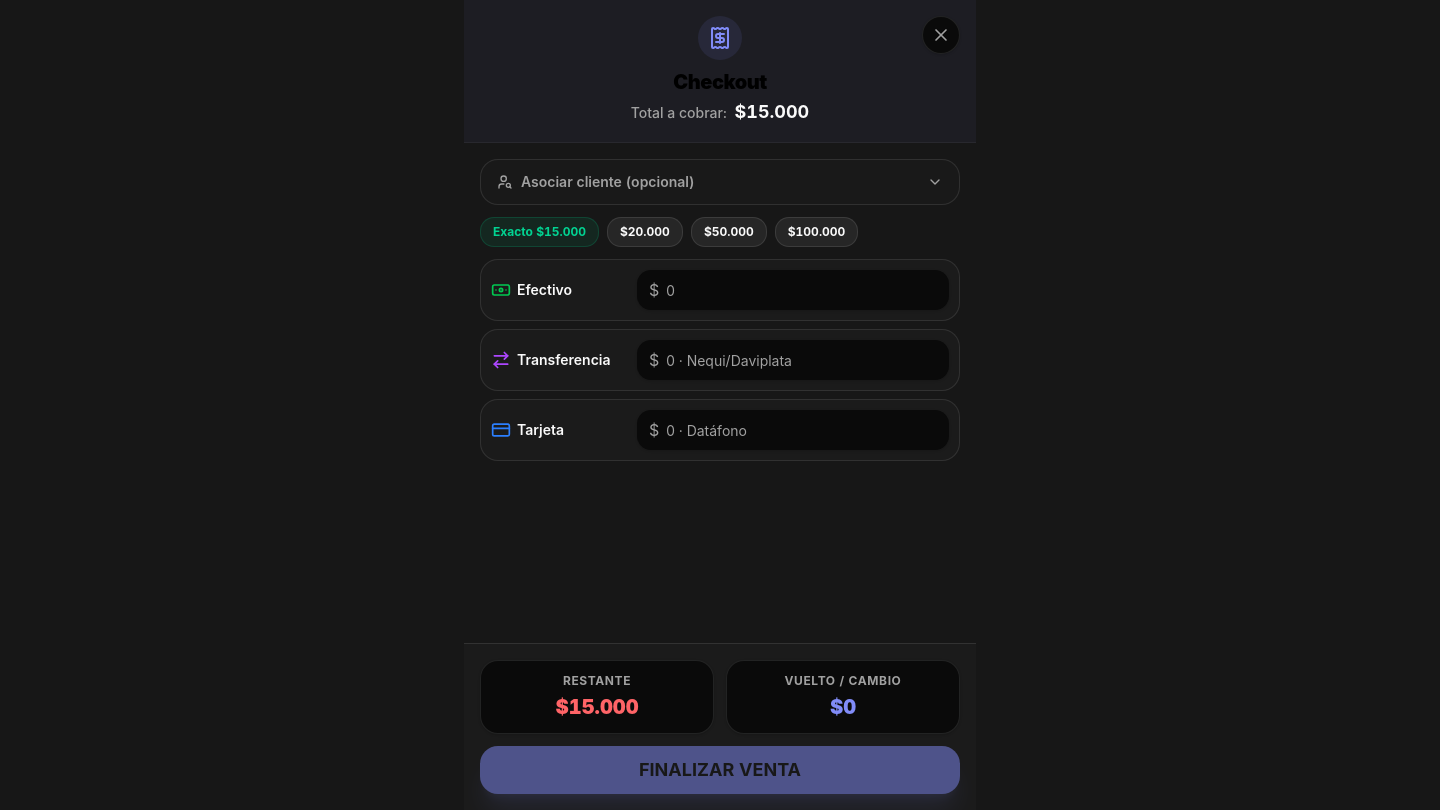
Test: CheckoutModal — payment stage › queues the sale for offline retry instead of showing a dead-end error when processSale throws
Type "15000" into the field with placeholder "0" at coordinates (793, 290), box [637,270,949,310]
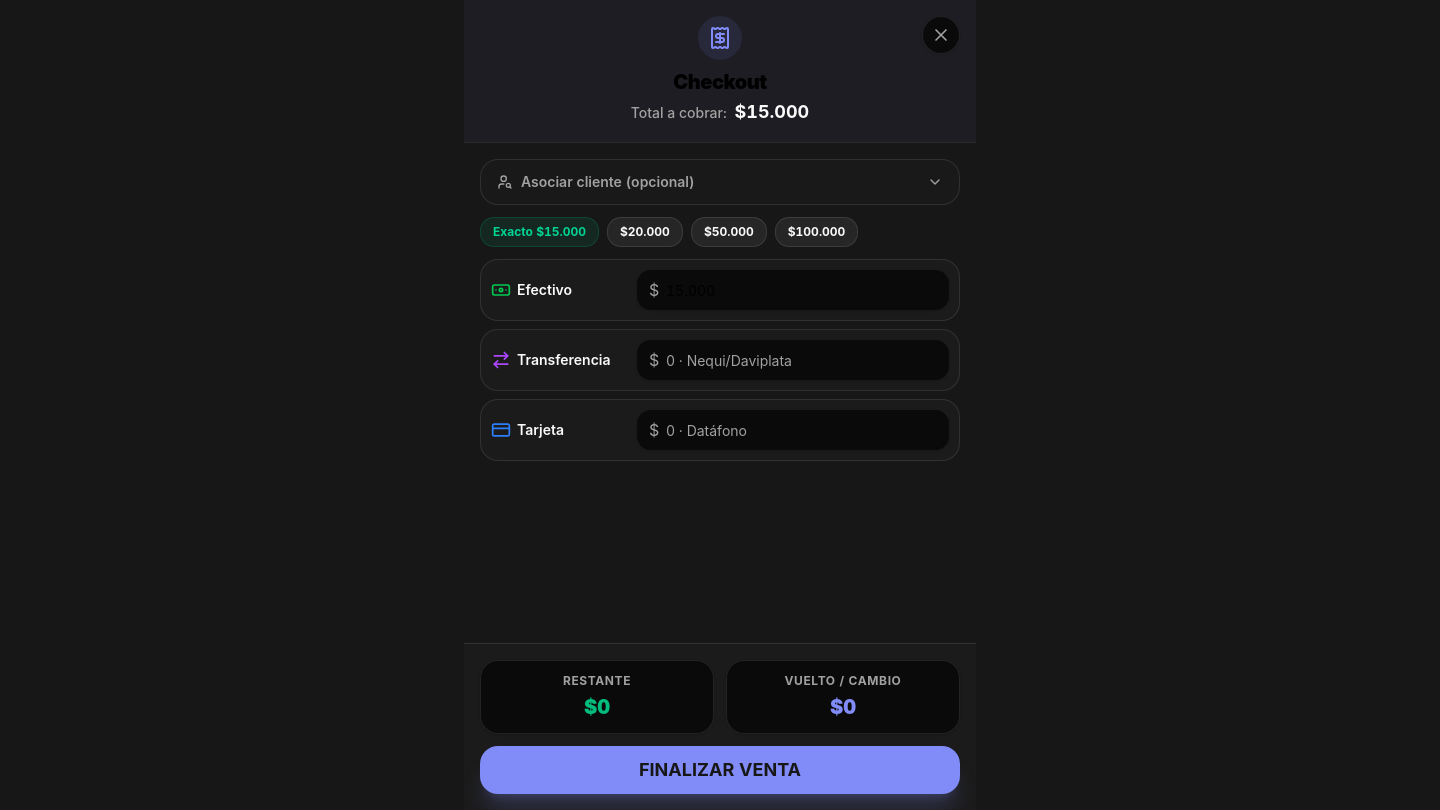
Click the button "FINALIZAR VENTA" at coordinates (720, 770), box [480,746,960,794]
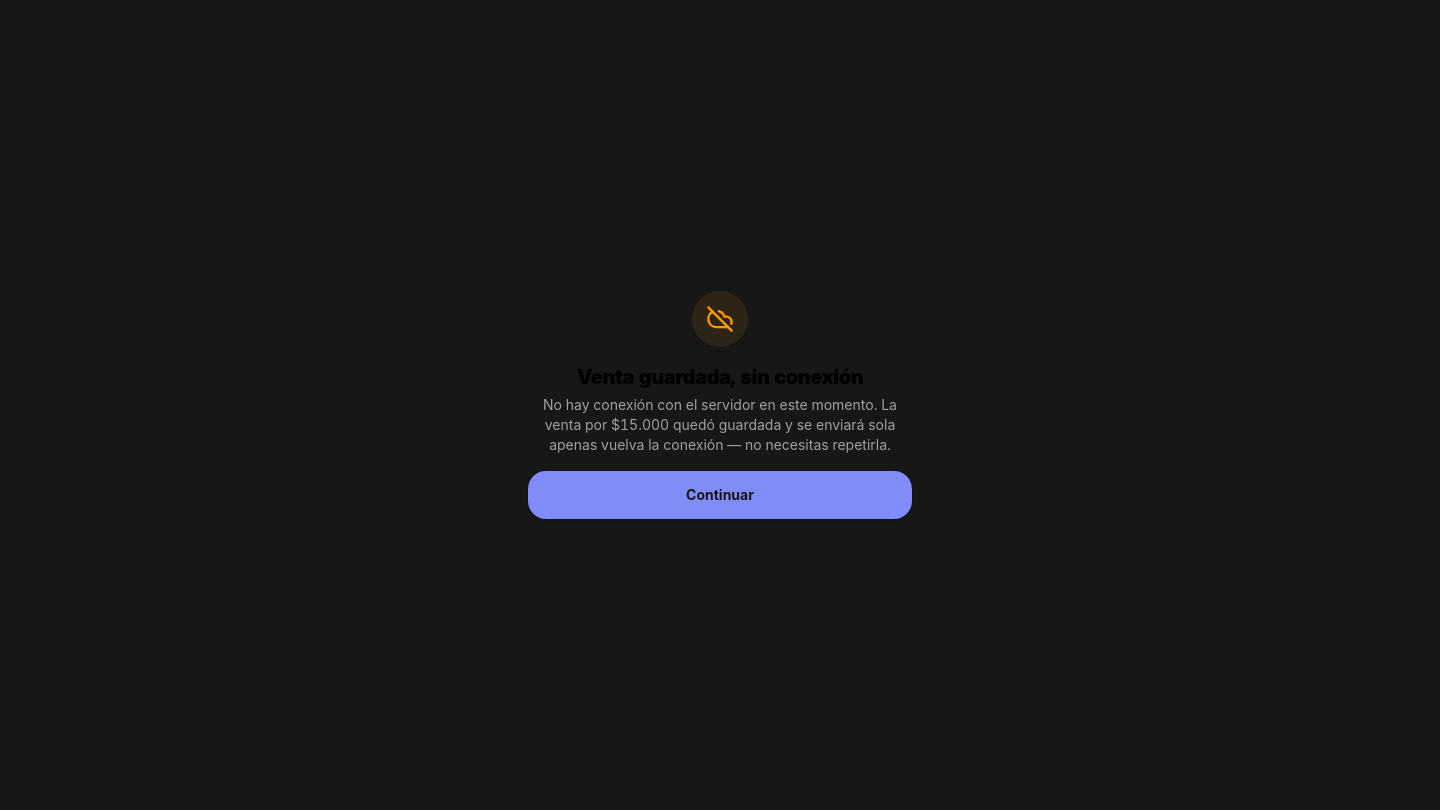
Now the button "Continuar" is shown, box [528,471,912,519]
